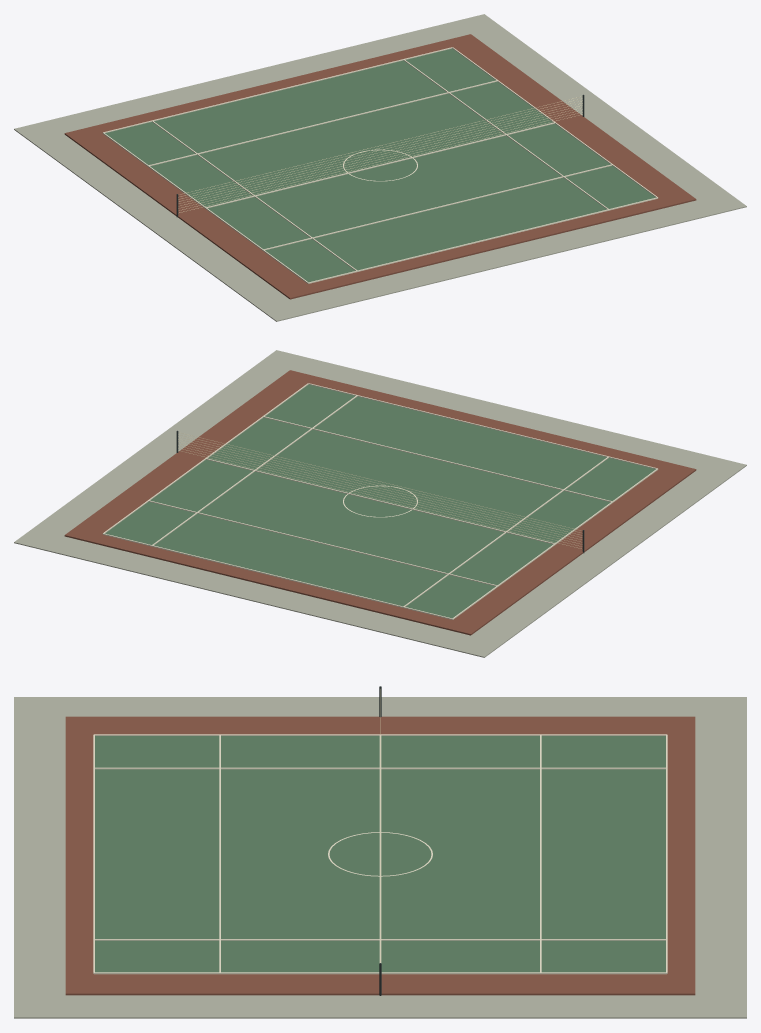
The model's file is tennis_C_west.glb.
The picture shows the model from 3 angles, top to bottom: view 1: azimuth 30°, elevation 25°; view 2: azimuth 150°, elevation 25°; view 3: azimuth 270°, elevation 25°; orthographic projection. The views are drawn at different scales.
Visible parts, largest first — view 1: Court_1_CourtInfield, PavedSurround, Court_1_CourtRed, Court_1_CourtLines, Court_1_NetMesh; view 2: Court_1_CourtInfield, PavedSurround, Court_1_CourtRed, Court_1_CourtLines, Court_1_NetMesh; view 3: Court_1_CourtInfield, PavedSurround, Court_1_CourtRed, Court_1_CourtLines.
Part boxes in pixels (<box>): Court_1_CourtInfield: <box>105,48,655,282</box>; PavedSurround: <box>14,14,746,321</box>; Court_1_CourtRed: <box>64,34,696,299</box>; Court_1_CourtLines: <box>102,47,658,283</box>; Court_1_NetMesh: <box>178,96,582,212</box>; Court_1_CourtInfield: <box>105,384,655,618</box>; PavedSurround: <box>14,350,746,657</box>; Court_1_CourtRed: <box>64,370,696,635</box>; Court_1_CourtLines: <box>102,383,658,619</box>; Court_1_NetMesh: <box>178,432,582,548</box>; Court_1_CourtInfield: <box>95,736,665,972</box>; PavedSurround: <box>14,697,746,1018</box>; Court_1_CourtRed: <box>65,716,695,995</box>; Court_1_CourtLines: <box>93,734,667,974</box>.
Size of the model in its own units: 47.59 by 2.3 by 45.99.
